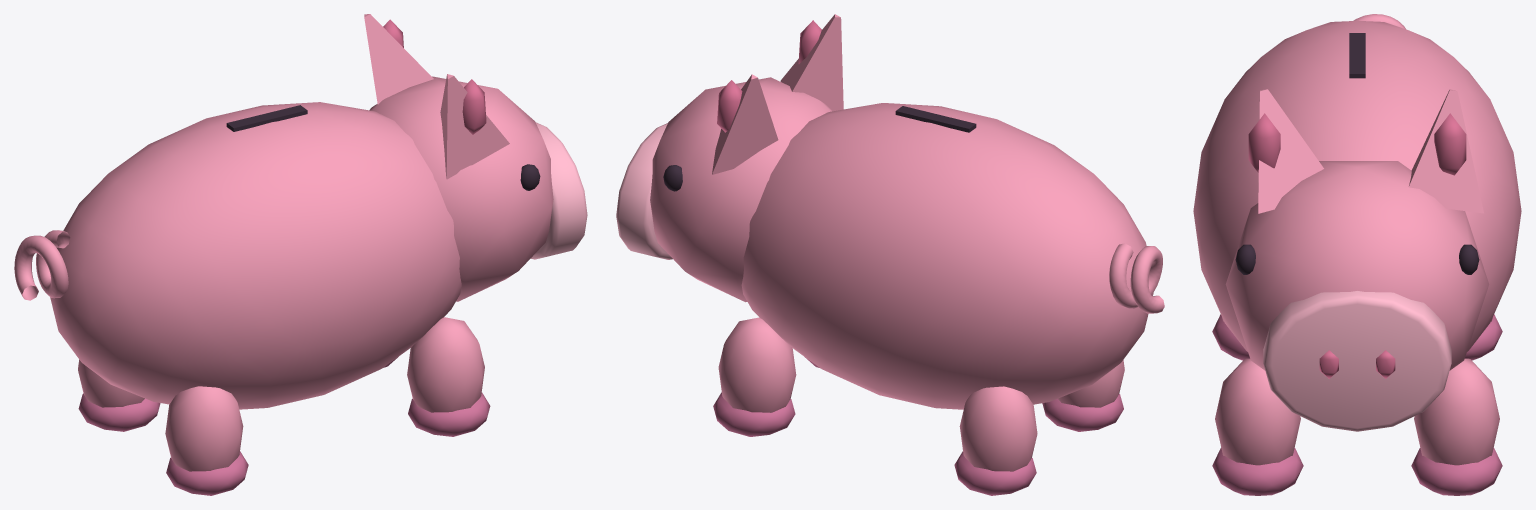
The model's file is pink-piggy-bank.glb.
3 renders of one model, left to right at view 1: azimuth 30°, elevation 25°; view 2: azimuth 150°, elevation 25°; view 3: azimuth 270°, elevation 25°, orthographic. The views are drawn at different scales.
Visible parts, largest first — view 1: PigBody, PigHead, Leg.002, Leg, PigSnout, Ear, PigTail, Ear.001, Hoof.002, Hoof, Hoof.001, Leg.001 (+2 smaller); view 2: PigBody, PigHead, Leg.003, Leg.001, PigSnout, Ear.001, Ear, PigTail, Hoof.003, Hoof.001, Hoof, Leg (+2 smaller); view 3: PigBody, PigHead, PigSnout, Leg.002, Leg.003, Ear.001, Ear, Hoof.002, Hoof.003, InnerEar.001, InnerEar, CoinSlot (+6 smaller).
Boxes of the visible parts, <box> form: PigBody: <box>50,102,461,409</box>; PigHead: <box>369,76,553,301</box>; Leg.002: <box>407,317,484,412</box>; Leg: <box>165,386,243,471</box>; PigSnout: <box>531,122,587,259</box>; Ear: <box>440,74,509,179</box>; PigTail: <box>14,230,70,300</box>; Ear.001: <box>364,14,433,104</box>; Hoof.002: <box>408,392,490,436</box>; Hoof: <box>166,451,248,495</box>; Hoof.001: <box>78,393,160,431</box>; Leg.001: <box>78,359,144,407</box>; PigBody: <box>741,103,1153,409</box>; PigHead: <box>650,77,832,302</box>; Leg.003: <box>718,317,796,412</box>; Leg.001: <box>959,386,1037,471</box>; PigSnout: <box>616,123,672,259</box>; Ear.001: <box>712,74,778,174</box>; Ear: <box>780,14,843,111</box>; PigTail: <box>1109,243,1164,313</box>; Hoof.003: <box>713,392,795,436</box>; Hoof.001: <box>954,451,1036,495</box>; Hoof: <box>1042,393,1123,431</box>; Leg: <box>1058,360,1124,407</box>; PigBody: <box>1193,20,1521,351</box>; PigHead: <box>1225,161,1489,370</box>; PigSnout: <box>1263,291,1451,431</box>; Leg.002: <box>1215,358,1300,465</box>; Leg.003: <box>1414,358,1499,465</box>; Ear.001: <box>1408,89,1483,213</box>; Ear: <box>1258,89,1323,213</box>; Hoof.002: <box>1212,447,1303,495</box>; Hoof.003: <box>1411,447,1502,495</box>; InnerEar.001: <box>1434,113,1466,175</box>; InnerEar: <box>1248,113,1280,172</box>; CoinSlot: <box>1349,33,1365,78</box>.
Size of the model in its own units: 2.56 by 1.65 by 1.22.
